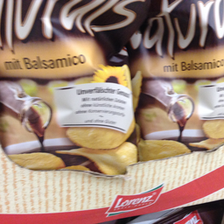chips: (1, 1, 143, 163), (132, 1, 224, 161)
